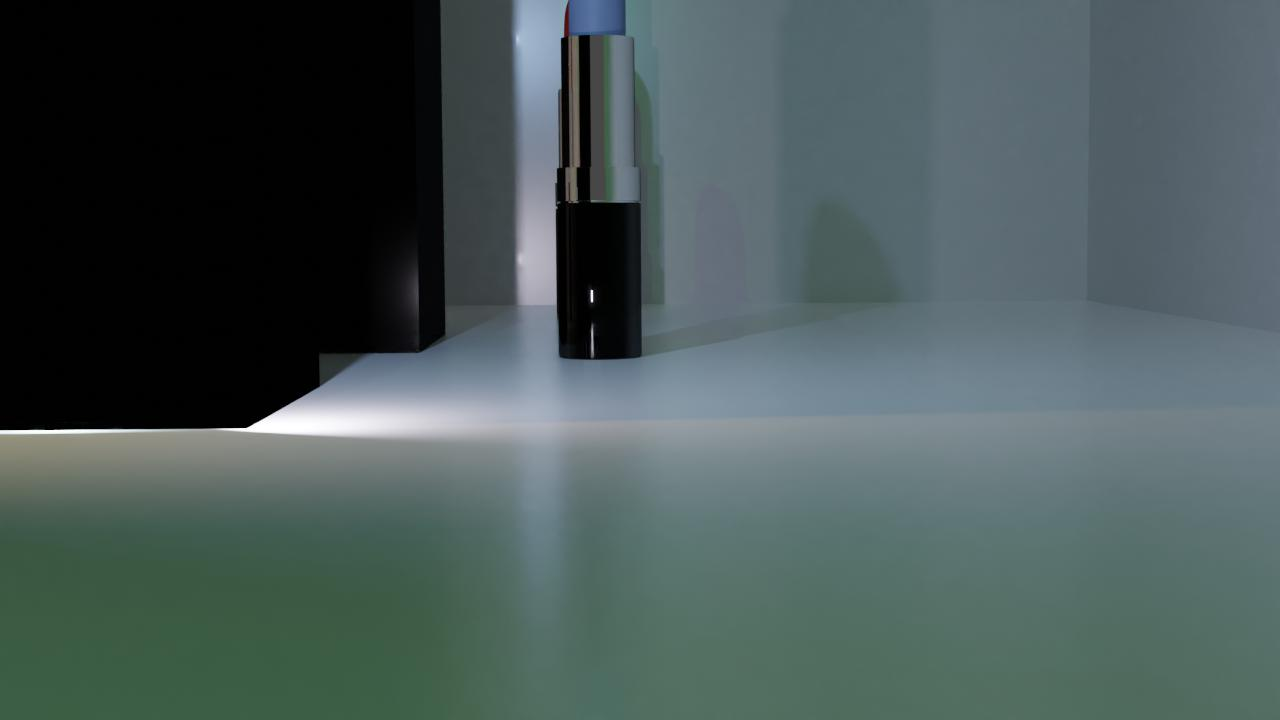CLASSIFIER_NAME: (556, 0, 643, 359)
